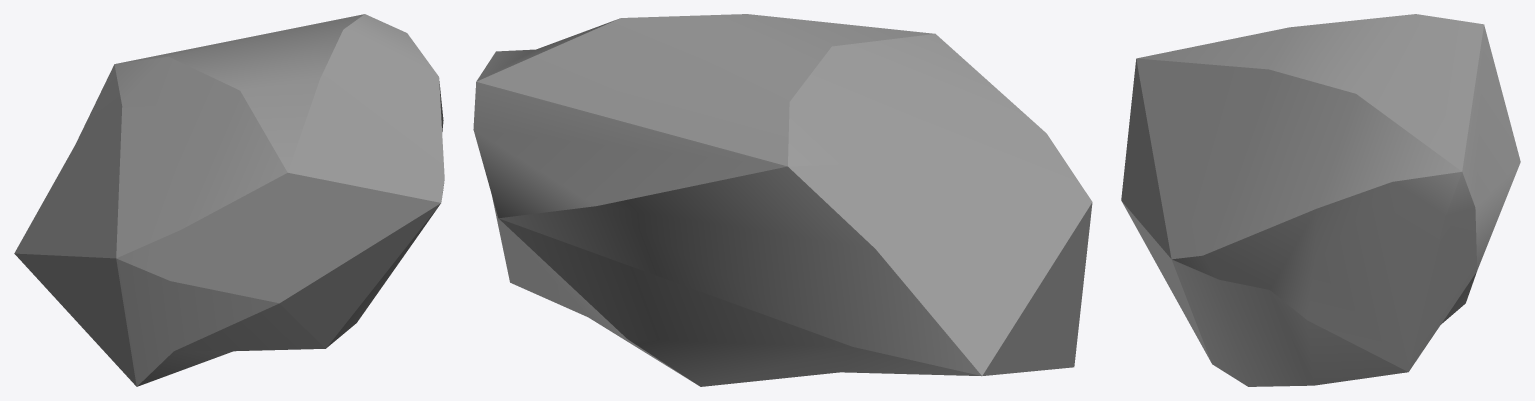
The model's file is Rock_02.fbx.
The picture shows the model from 3 angles, left to right: view 1: azimuth 30°, elevation 25°; view 2: azimuth 150°, elevation 25°; view 3: azimuth 270°, elevation 25°; orthographic projection. The views are drawn at different scales.
Visible parts, largest first — view 1: Rock2; view 2: Rock2; view 3: Rock2.
Part boxes in pixels (left/top/right/bottom): Rock2: left=14, top=14, right=444, bottom=386; Rock2: left=473, top=14, right=1092, bottom=386; Rock2: left=1121, top=14, right=1520, bottom=386.
Size of the model in its own units: 0.5593 by 0.3599 by 0.4124.
Materials: 1 (1 with a texture image).
